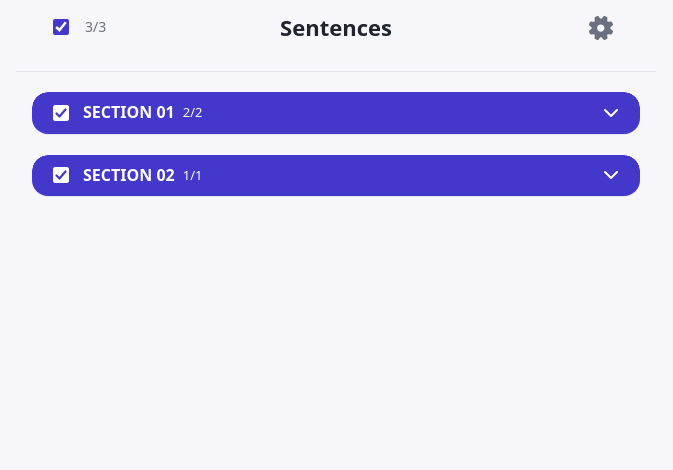
Test: ContentSelectionScreen › カテゴリ見出しをクリックすると、配下の英文カードの開閉状態が切り替わる（既定は折りたたみ状態）
This screenshot has width=673, height=470.
Click the button "SECTION 01 2/2" at (118, 112), box [83, 92, 623, 134]
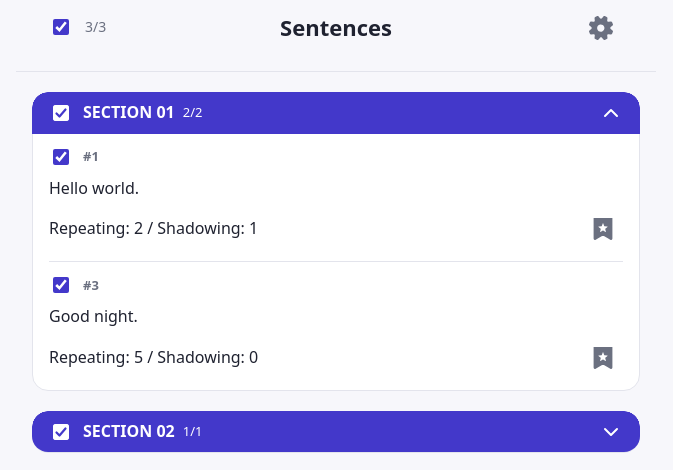
Expected: the text "Hello world." is shown, [49, 177, 139, 199]
Expected: the button "SECTION 01 2/2" is expanded
Click the button "SECTION 01 2/2" at (118, 112), box [83, 92, 623, 134]
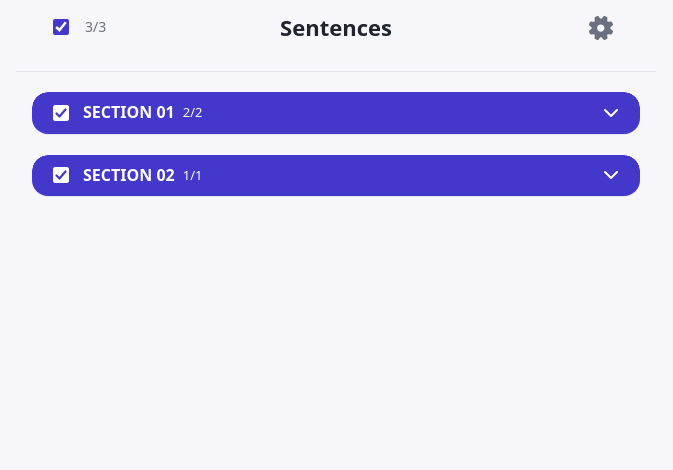
Expected: the button "SECTION 01 2/2" is collapsed, [83, 92, 623, 134]
